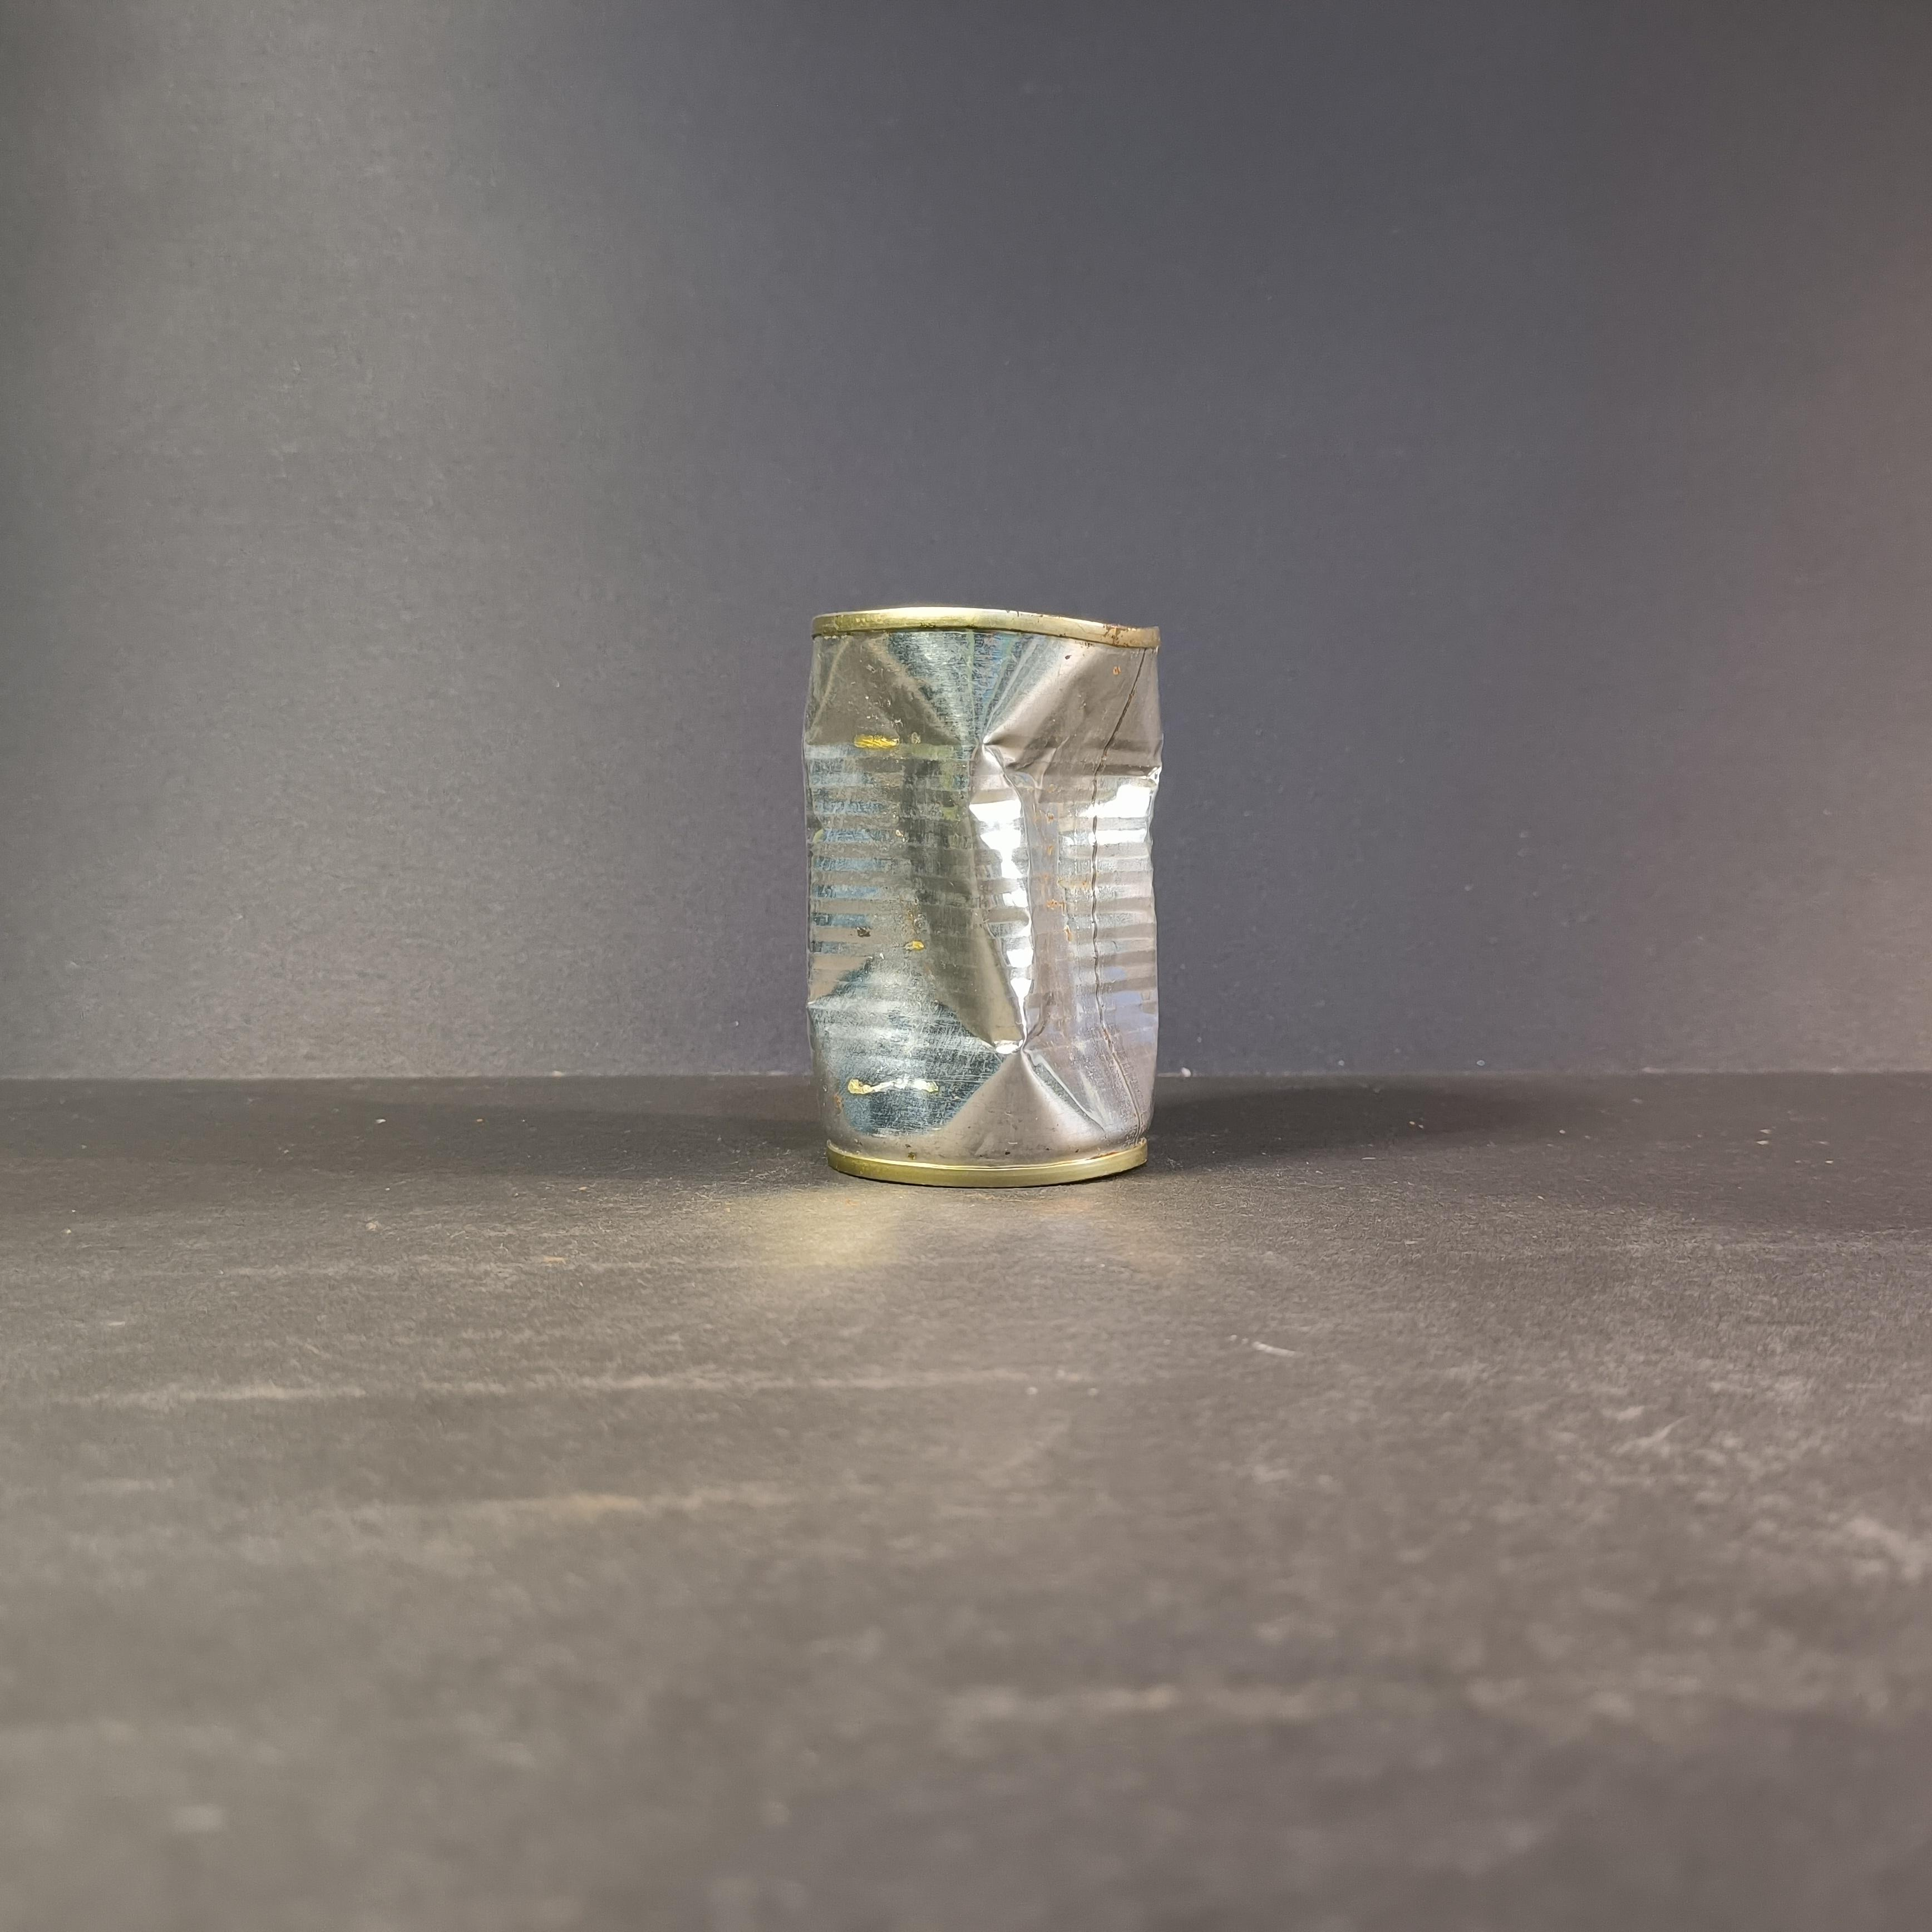Dented: (764, 579, 1200, 1214)
